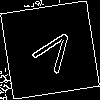V: (25, 25, 80, 83)
